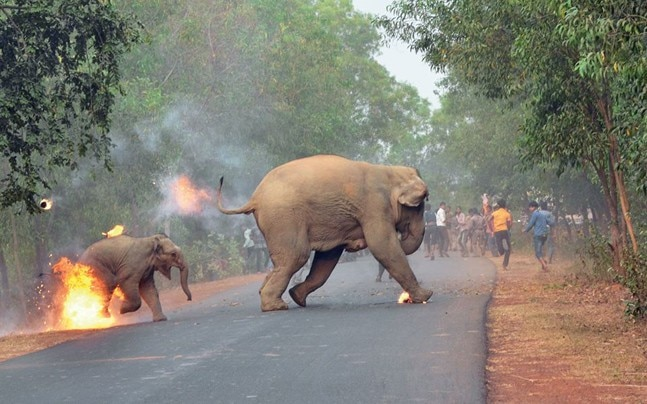elephant: (212, 157, 440, 324), (64, 226, 194, 325)
